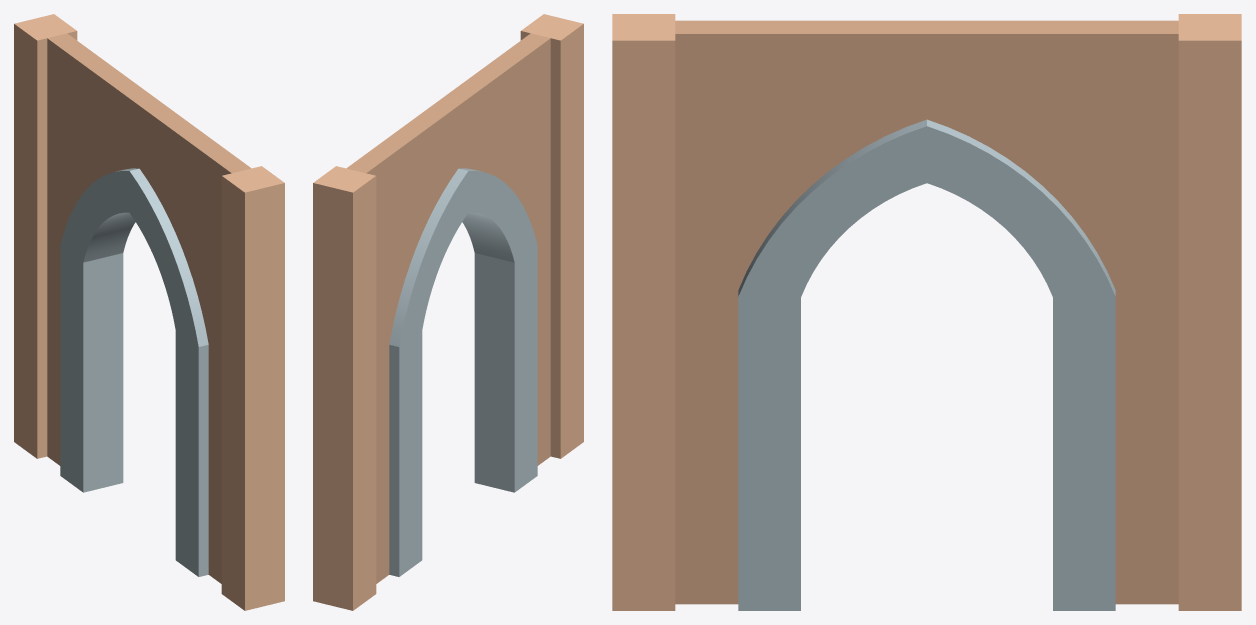
The model's file is wallWoodDoorwayRound.glb.
3 views of the same model, side by side, from view 1: azimuth 30°, elevation 25°; view 2: azimuth 150°, elevation 25°; view 3: azimuth 270°, elevation 25° (orthographic). The views are drawn at different scales.
Visible parts, largest first — view 1: wallWoodDoorwayRound; view 2: wallWoodDoorwayRound; view 3: wallWoodDoorwayRound.
Boxes of the visible parts, <box> form: wallWoodDoorwayRound: <box>14,14,284,610</box>; wallWoodDoorwayRound: <box>313,14,583,610</box>; wallWoodDoorwayRound: <box>612,14,1241,610</box>.
Size of the model in its own units: 0.1 by 1 by 1.
